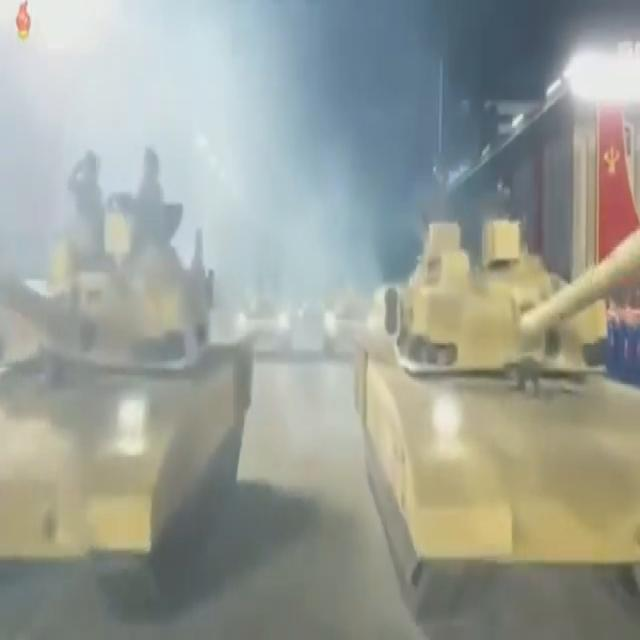north tank: (336, 186, 639, 640), (0, 118, 276, 606)
